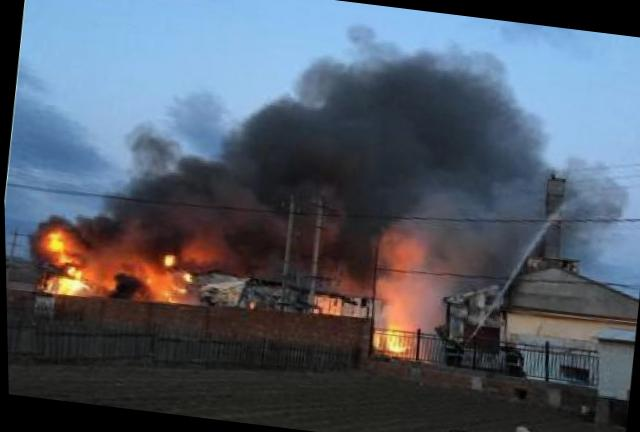fire: (142, 268, 180, 302), (36, 228, 70, 264), (43, 272, 90, 295), (368, 326, 409, 352)
